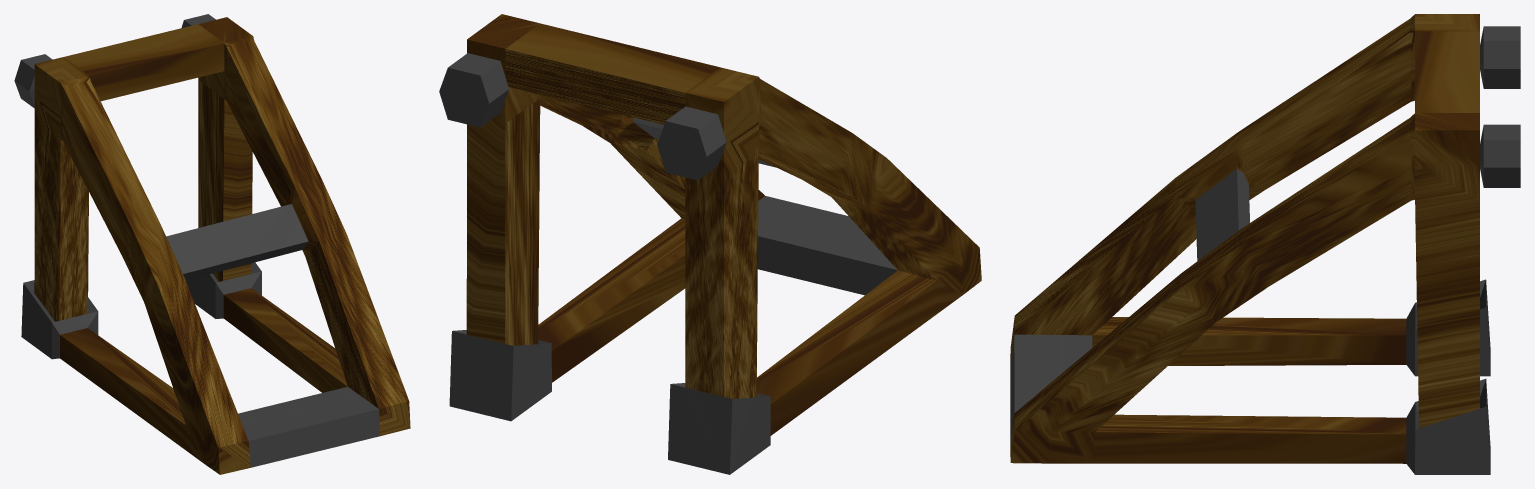
The model's file is MinecartTrackStop.glb.
The picture shows the model from 3 angles, left to right: view 1: azimuth 30°, elevation 25°; view 2: azimuth 150°, elevation 25°; view 3: azimuth 270°, elevation 25°; orthographic projection. The views are drawn at different scales.
Visible parts, largest first — view 1: Cube; view 2: Cube; view 3: Cube.
Boxes of the visible parts, x1,y1,x2,y2 form: Cube: (14, 14, 410, 474); Cube: (439, 14, 981, 474); Cube: (1010, 14, 1520, 474).
Bounding box in the file's own units: 0.5765 × 0.7185 × 0.9792.
Materials: 2 (2 with a texture image).
